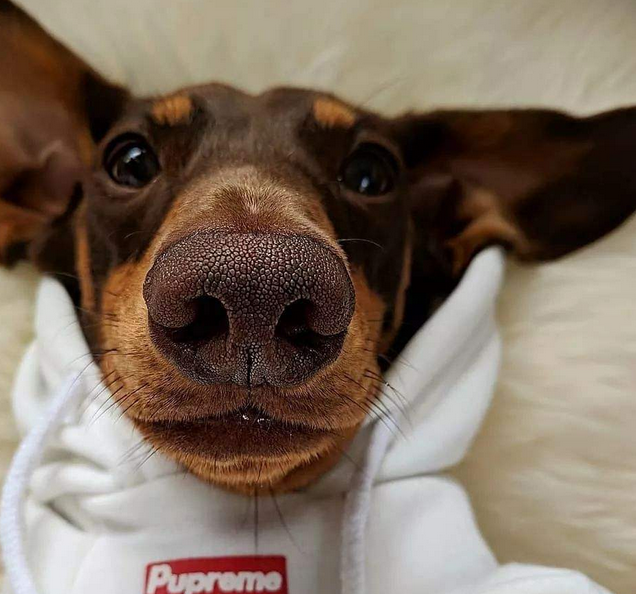nose: (148, 225, 350, 386)
